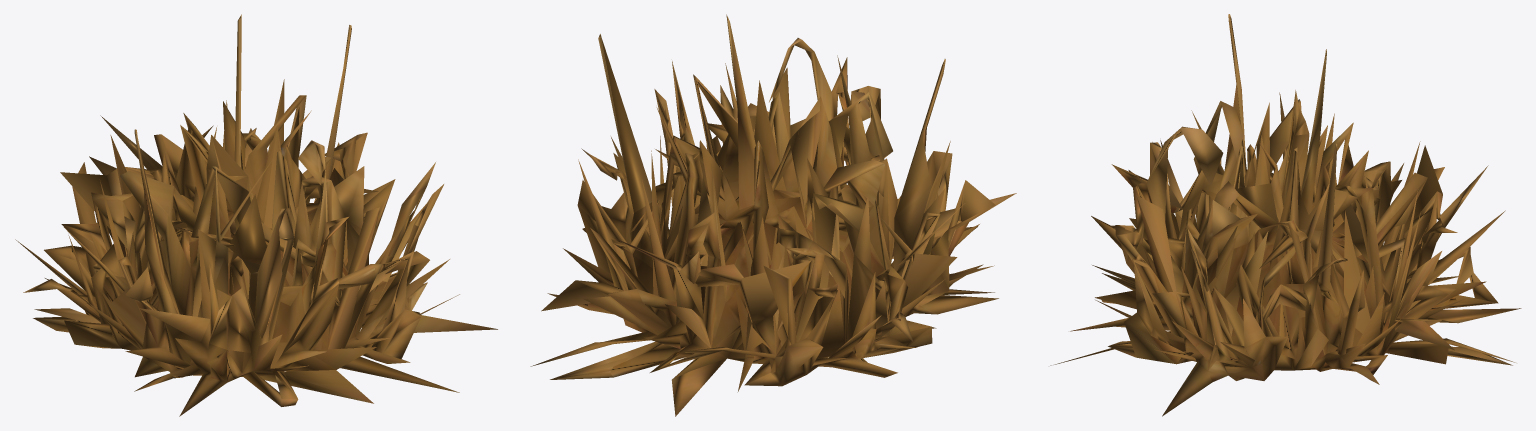
Rendered from gnd_gothic_dead_grass.fbx.
3 views of the same model, side by side, from view 1: azimuth 30°, elevation 25°; view 2: azimuth 150°, elevation 25°; view 3: azimuth 270°, elevation 25° (orthographic). The views are drawn at different scales.
Visible parts, largest first — view 1: gnd_gothic_dead_grass_LOD0; view 2: gnd_gothic_dead_grass_LOD0; view 3: gnd_gothic_dead_grass_LOD0.
Part boxes in pixels (x1,y1,x2,y2): gnd_gothic_dead_grass_LOD0: (15, 14, 497, 416); gnd_gothic_dead_grass_LOD0: (530, 14, 1016, 416); gnd_gothic_dead_grass_LOD0: (1050, 14, 1521, 416).
Size of what is drawn, in the model's own units: 0.7724 by 0.5796 by 0.8702.
